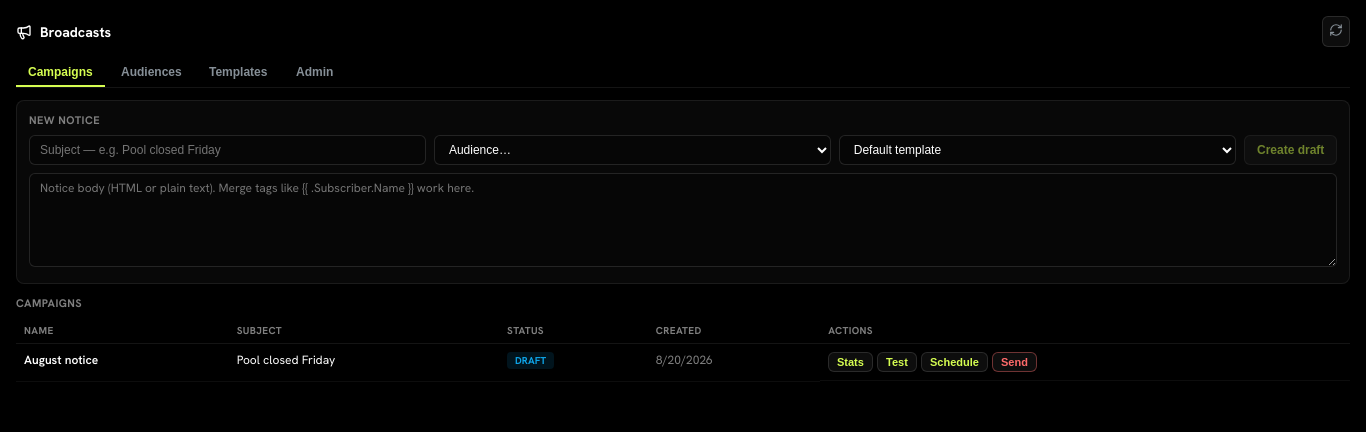
Test: Broadcasts widget — Campaigns tab › Stats button fetches and renders sent/views/clicks/bounces
This screenshot has width=1366, height=432.
Expected: the tab "Campaigns" is shown, 16,59 -> 105,87
Click the button with aria-label "Stats for August notice" at (851, 362), box 828,352 -> 873,372
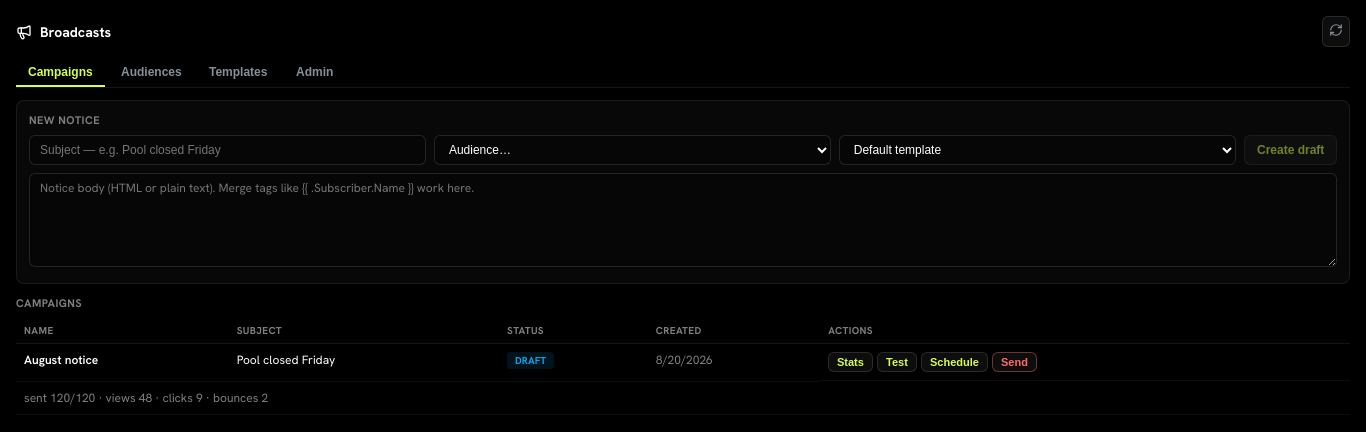
Now the text "sent 120/120 · views 48 · clicks 9 · bounces 2" is shown, box 16,381 -> 1350,414
